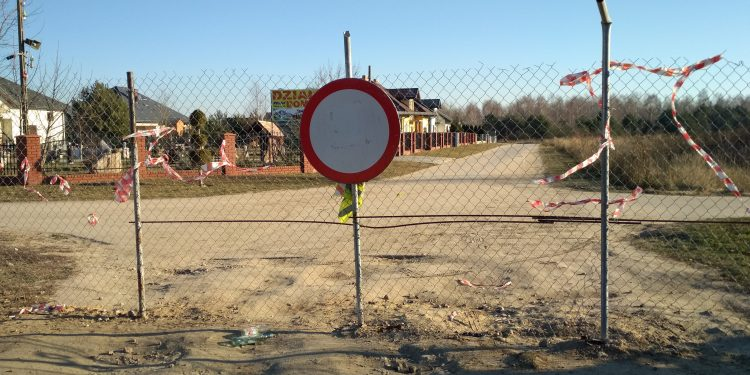no_entry_sign: (298, 78, 402, 185)
